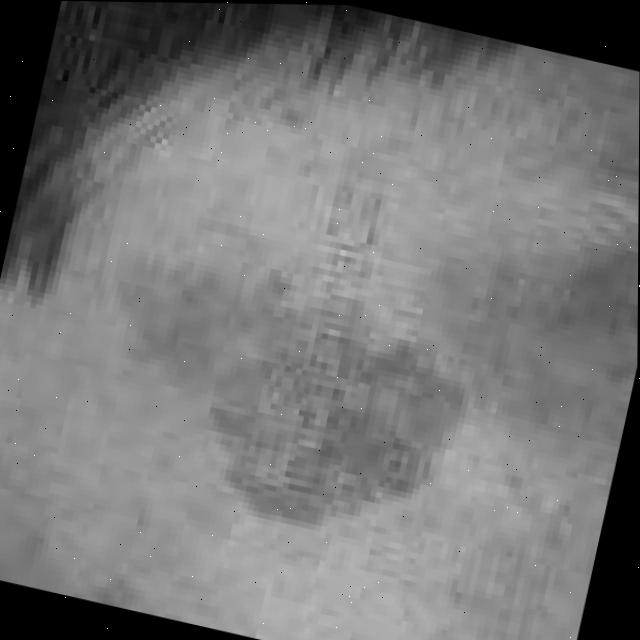Melasma: (142, 266, 446, 529)
